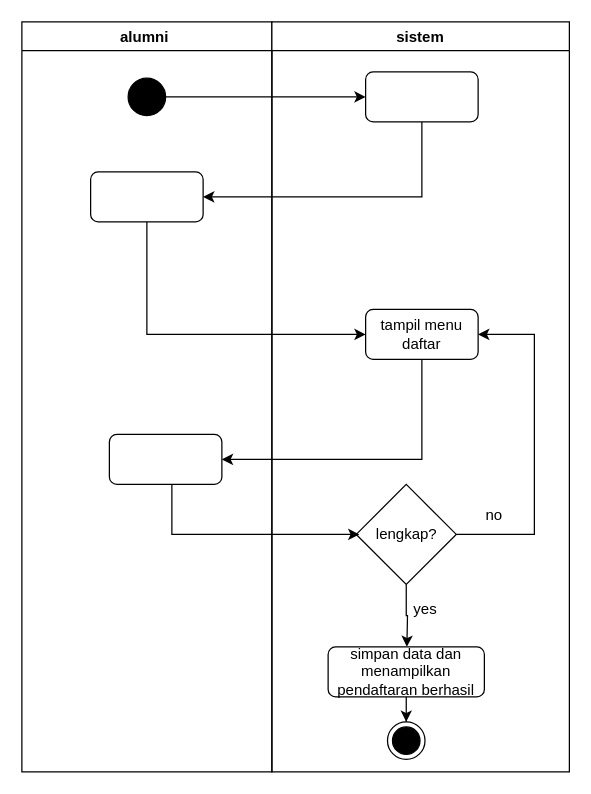
Image size: 591x794. Some labels were removed from this diagram. The shapes that lost their labels are listed below. From the top down, each one's centre as x and y in pixels, then its label:
(x=421, y=96): halaman utama
(x=146, y=196): pilih menu daftar
(x=165, y=458): mengisi formulir pendaftaran
